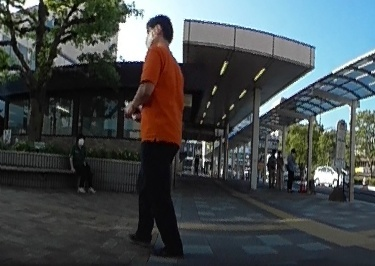person: (137, 12, 183, 254), (71, 135, 99, 196), (286, 147, 296, 189), (267, 149, 276, 184), (275, 150, 283, 187)
